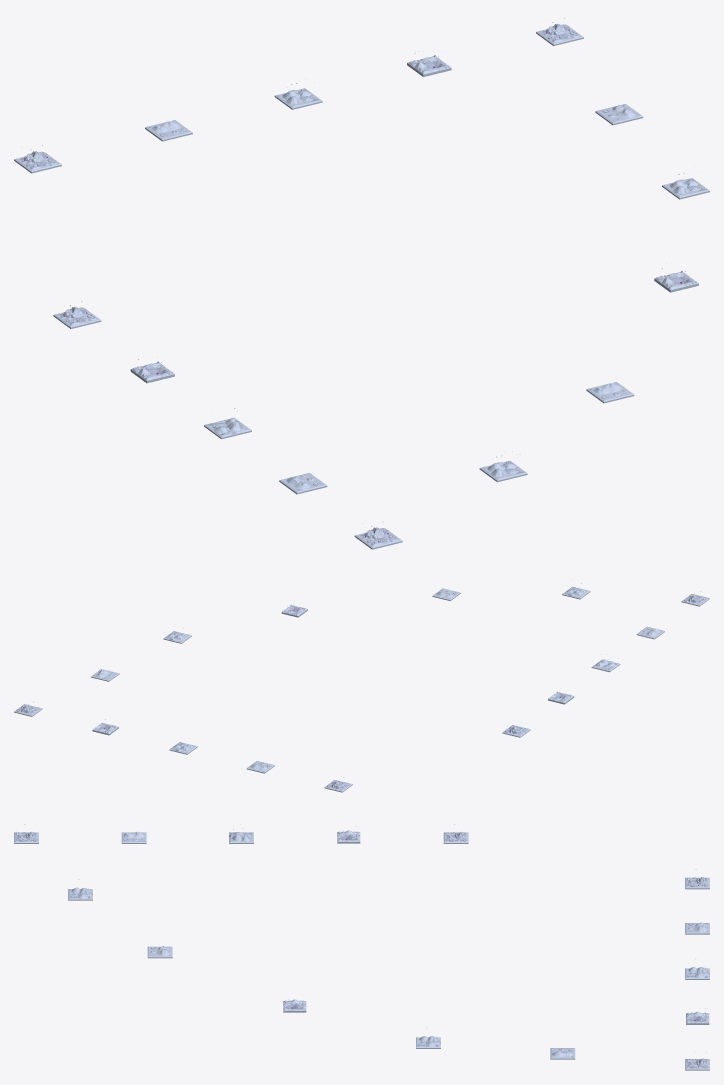
File: Blank_Space_Part2_D7.fbx
The picture shows the model from 3 angles, top to bottom: view 1: azimuth 30°, elevation 25°; view 2: azimuth 150°, elevation 25°; view 3: azimuth 270°, elevation 25°; orthographic projection. The views are drawn at different scales.
Size of the model in its own units: 89682 by 2584 by 111153.
5 materials, 2 textured.
